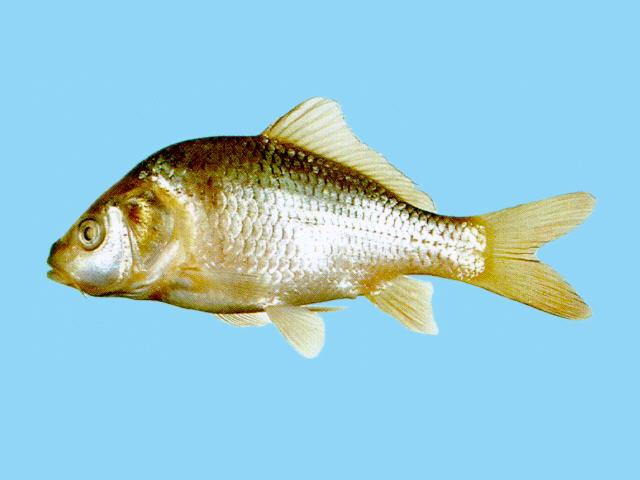Mulut: (28, 232, 94, 310)
Sirip Anal: (372, 272, 444, 344)
Sirip Dada: (170, 252, 262, 306)
Sirip Ekor: (481, 183, 602, 333)
Sirip Perut: (268, 291, 344, 367)
Sirip Punggung: (254, 91, 442, 221)
